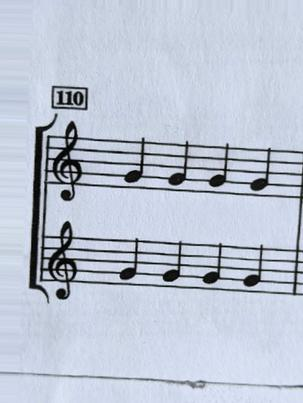note: (111, 234, 146, 287), (120, 134, 152, 191), (155, 239, 190, 289), (238, 239, 267, 298), (195, 239, 225, 290), (167, 140, 195, 194), (247, 142, 275, 196), (206, 140, 233, 194)
